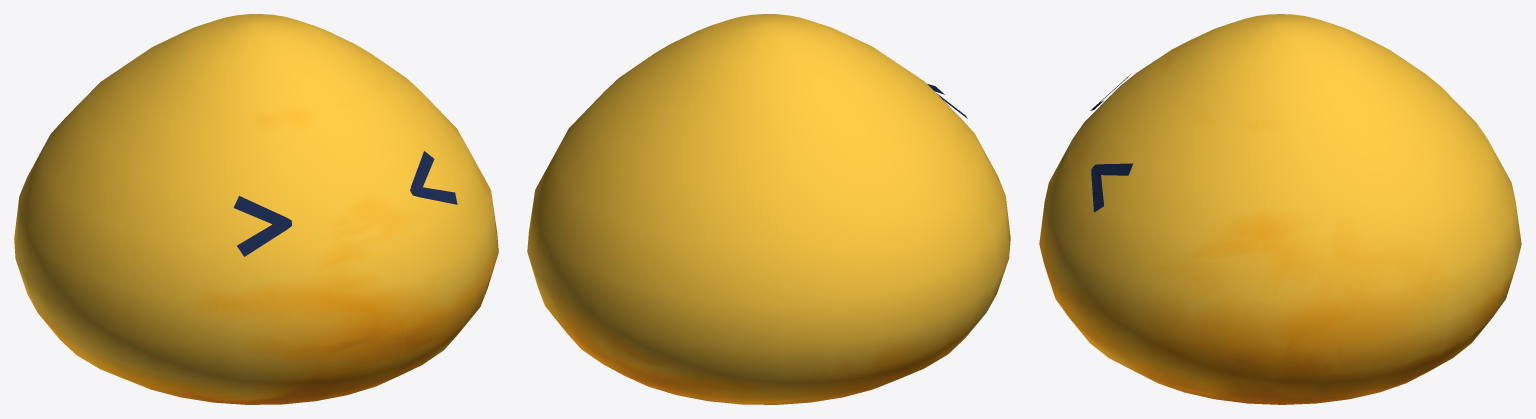
File: slime_yellow_hurt.gltf
3 views of the same model, side by side, from view 1: azimuth 30°, elevation 25°; view 2: azimuth 150°, elevation 25°; view 3: azimuth 270°, elevation 25° (orthographic).
Parts seen in each view (by area): view 1: Slime_Slime_0; view 2: Slime_Slime_0; view 3: Slime_Slime_0.
Part boxes in pixels (<box>): Slime_Slime_0: <box>14,14,498,404</box>; Slime_Slime_0: <box>527,14,1010,404</box>; Slime_Slime_0: <box>1039,14,1521,404</box>.
Bounding box in the file's own units: 1.03 × 0.7421 × 1.03.
2 materials, 1 textured.
